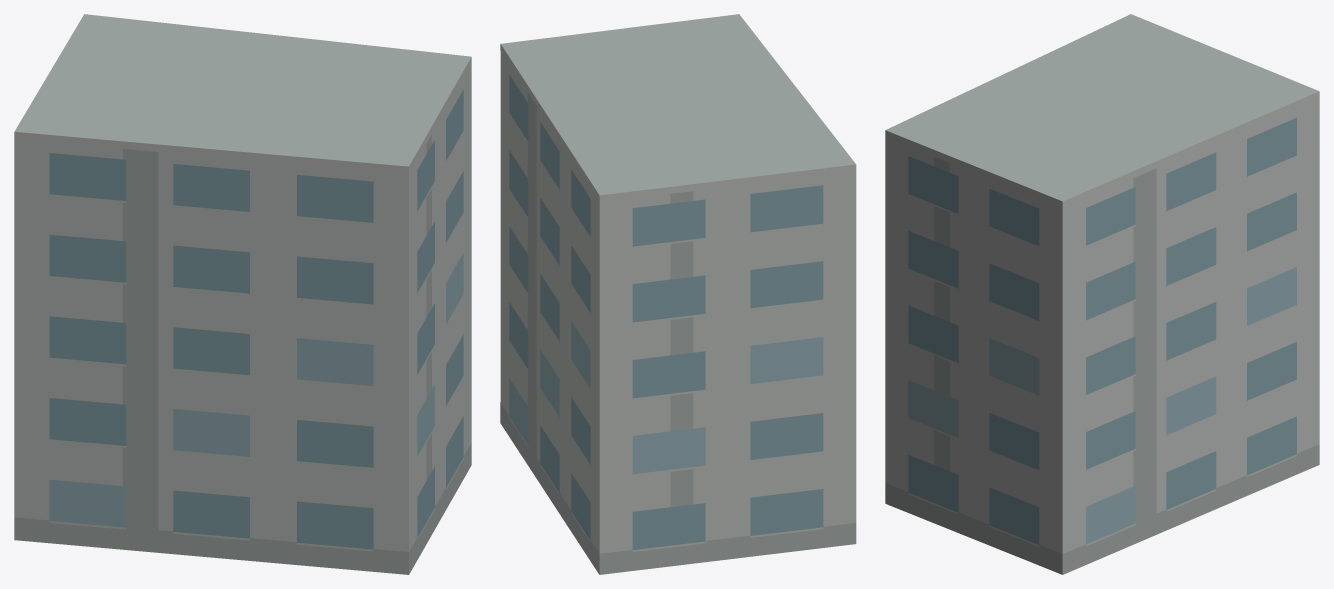
File: survey-upis-32946963.glb
3 renders of one model, left to right at view 1: azimuth 30°, elevation 25°; view 2: azimuth 150°, elevation 25°; view 3: azimuth 270°, elevation 25°, orthographic. The views are drawn at different scales.
Parts seen in each view (by area): view 1: survey-upis-32946963.tmp; view 2: survey-upis-32946963.tmp; view 3: survey-upis-32946963.tmp.
Boxes of the visible parts, x1,y1,x2,y2 form: survey-upis-32946963.tmp: (14,14,471,574); survey-upis-32946963.tmp: (500,14,856,574); survey-upis-32946963.tmp: (885,14,1319,574).
Bounding box in the file's own units: 14.22 × 13.2 × 13.92.
